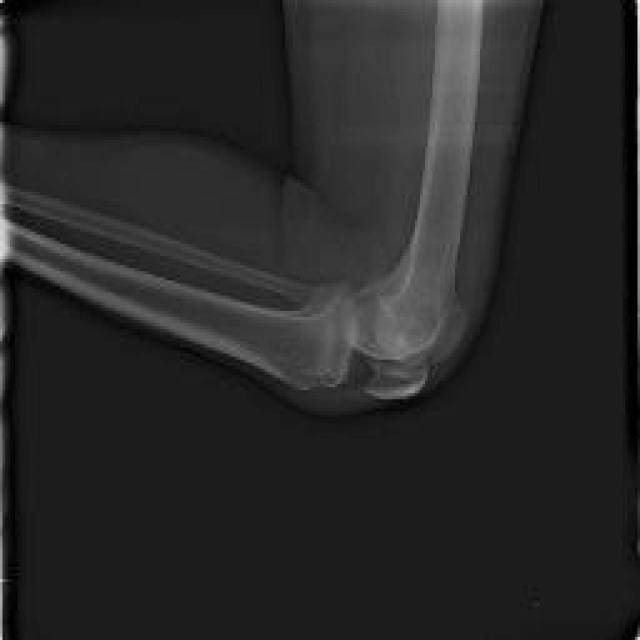normal: (3, 3, 481, 403)
